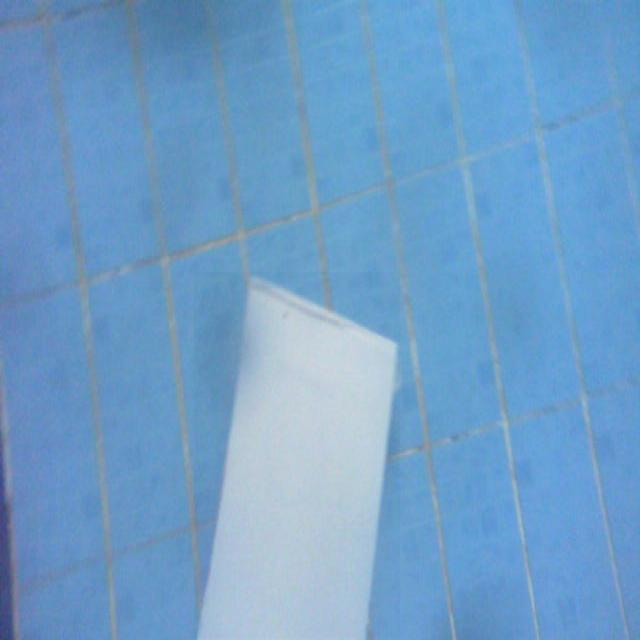Cuboid: (194, 272, 400, 638)
